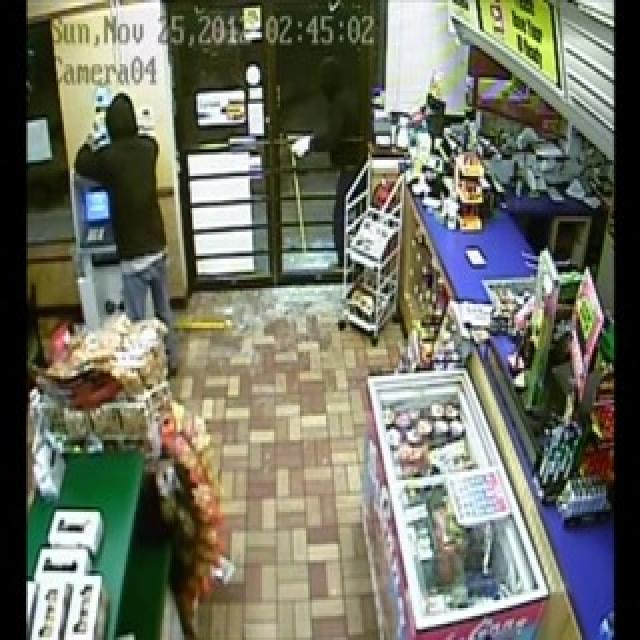thief: (82, 94, 174, 332)
